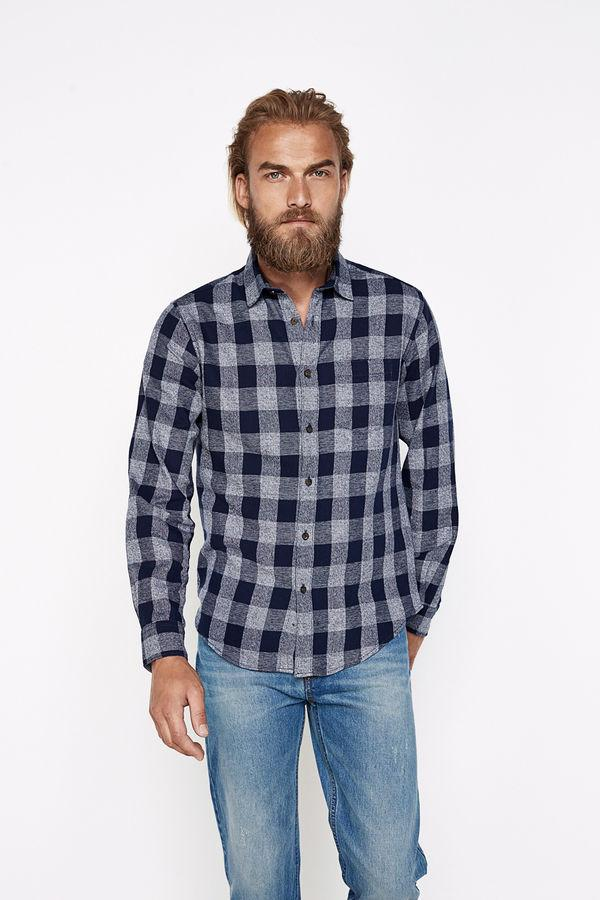teeshirt: (97, 252, 481, 706)
